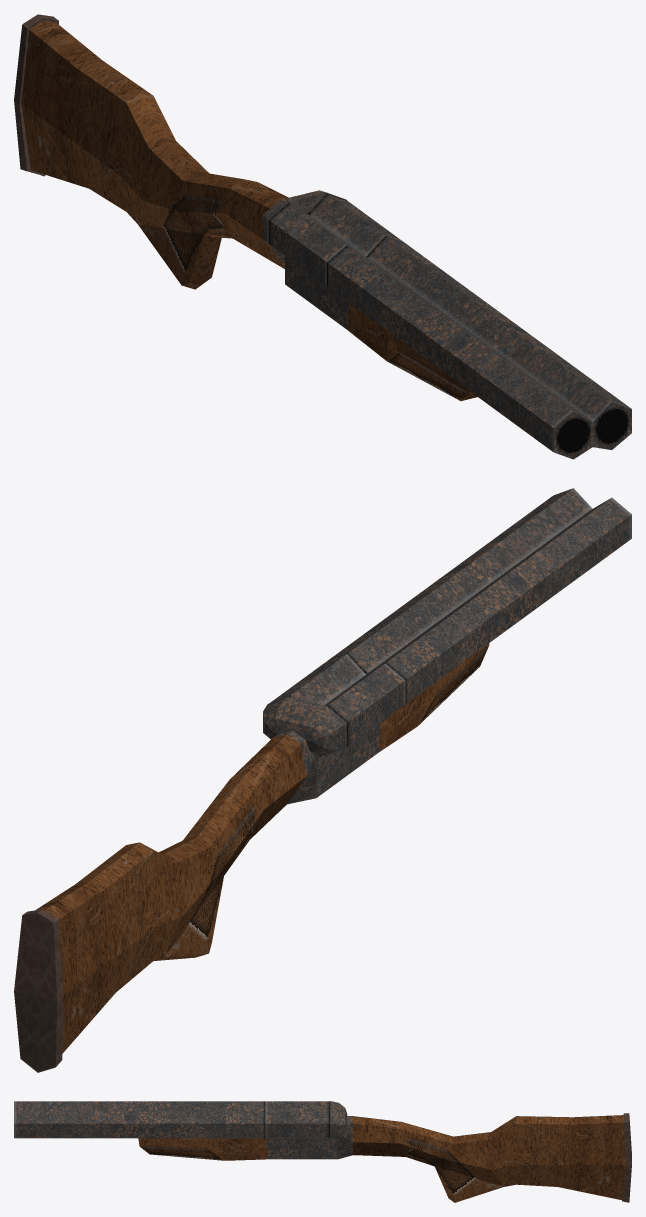
The model's file is PSXDoubleBarrelShotgun.glb.
3 views of the same model, one above another, from view 1: azimuth 30°, elevation 25°; view 2: azimuth 150°, elevation 25°; view 3: azimuth 270°, elevation 25° (orthographic). The views are drawn at different scales.
Visible parts, largest first — view 1: Barrels, DoubleBarrelShotgun; view 2: DoubleBarrelShotgun, Barrels; view 3: DoubleBarrelShotgun, Barrels.
Part boxes in pixels (x1,y1,x2,y2): Barrels: (268,193,631,459); DoubleBarrelShotgun: (14,14,348,330); DoubleBarrelShotgun: (14,696,379,1072); Barrels: (270,488,631,751); DoubleBarrelShotgun: (267,1101,631,1202); Barrels: (14,1101,330,1160).
Size of the model in its own units: 0.4041 by 0.8489 by 4.92.
Materials: 1 (1 with a texture image).
